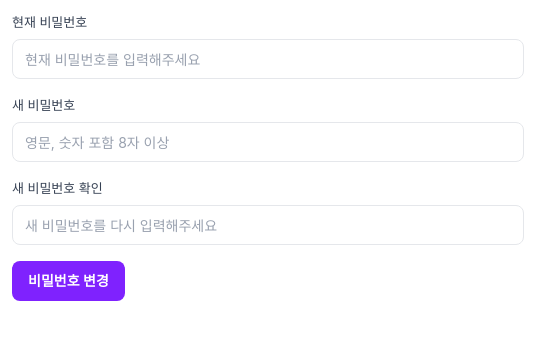
PasswordForm › 새 비밀번호에 영문자가 없을 때 에러 메시지가 표시된다
This screenshot has width=545, height=344.
In the password field labelled "새 비밀번호": (268, 142) [12, 122, 524, 162], type "12345678"
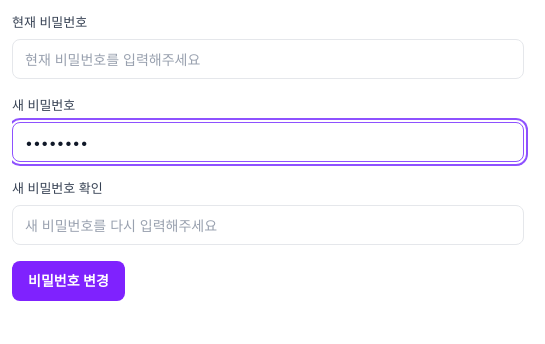
Press Tab
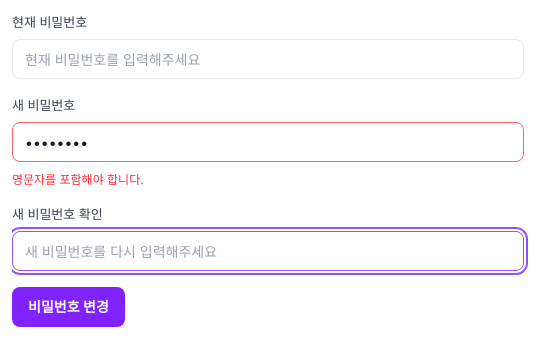
Result: the text "영문자를 포함해야 합니다." is shown at [12, 172, 144, 187]
